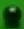black: (0, 0, 24, 29)
